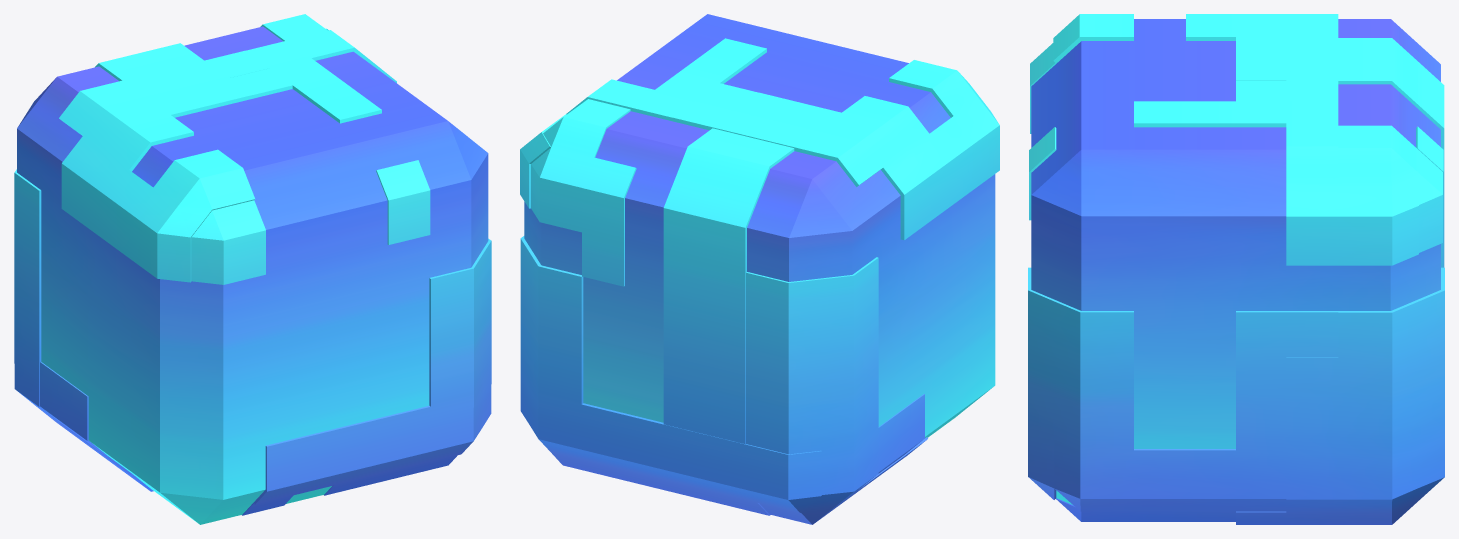
The model's file is CyberPunkCubeShapeD.007.glb.
3 views of the same model, side by side, from view 1: azimuth 30°, elevation 25°; view 2: azimuth 150°, elevation 25°; view 3: azimuth 270°, elevation 25° (orthographic). The views are drawn at different scales.
Parts seen in each view (by area): view 1: CyberPunkCubeShapeD.007; view 2: CyberPunkCubeShapeD.007; view 3: CyberPunkCubeShapeD.007.
Boxes of the visible parts, x1,y1,x2,y2 form: CyberPunkCubeShapeD.007: (14, 14, 491, 524); CyberPunkCubeShapeD.007: (520, 14, 999, 524); CyberPunkCubeShapeD.007: (1028, 14, 1444, 524).
Size of what is drawn, in the model's own units: 0.7775 by 0.7766 by 0.7741.
Materials: 1 (1 with a texture image).
